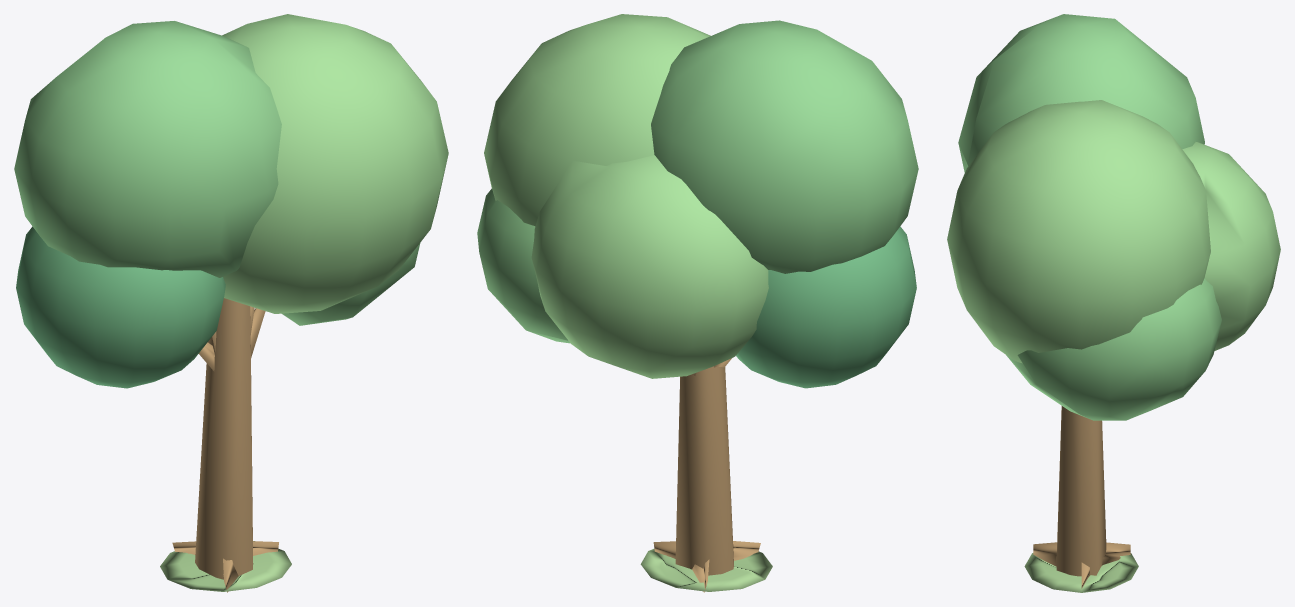
Rendered from tree_v2_summer_low.glb.
The picture shows the model from 3 angles, left to right: view 1: azimuth 30°, elevation 25°; view 2: azimuth 150°, elevation 25°; view 3: azimuth 270°, elevation 25°; orthographic projection. The views are drawn at different scales.
Size of the model in its own units: 3.84 by 5.05 by 2.97.
